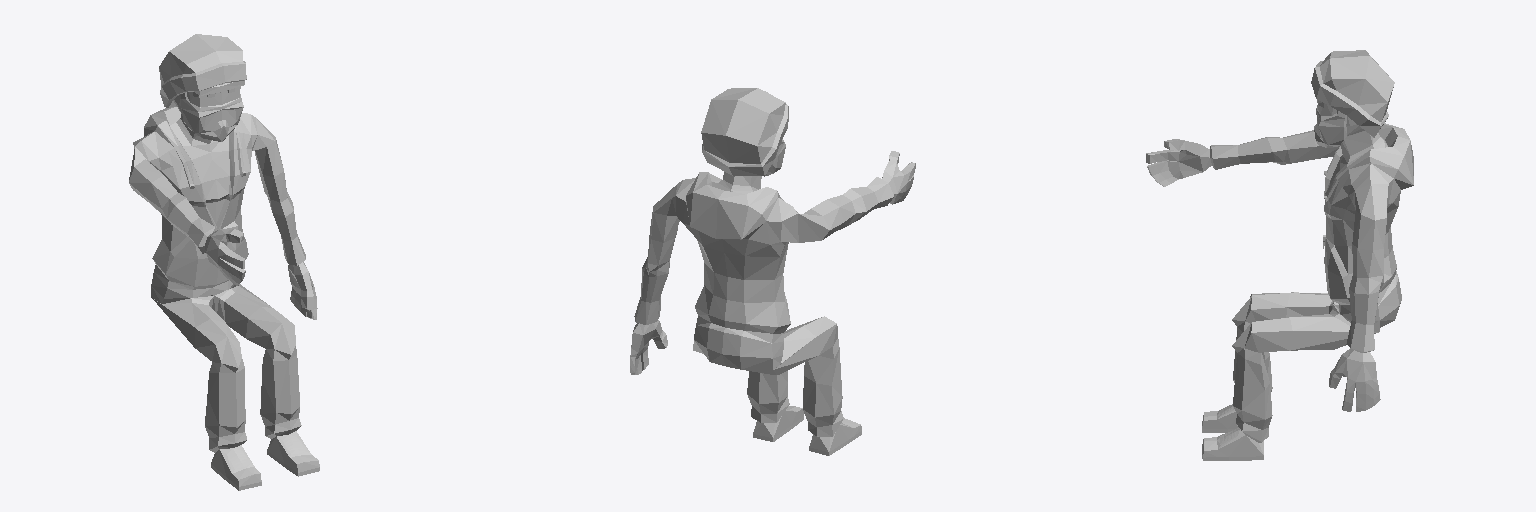
Rendered from man_hoodie_sitting.obj.
3 renders of one model, left to right at view 1: azimuth 30°, elevation 25°; view 2: azimuth 150°, elevation 25°; view 3: azimuth 270°, elevation 25°, orthographic.
Visible parts, largest first — view 1: Character_Male_Hoodie_Mesh.030; view 2: Character_Male_Hoodie_Mesh.030; view 3: Character_Male_Hoodie_Mesh.030.
Boxes of the visible parts, x1=… form: Character_Male_Hoodie_Mesh.030: x1=129, y1=34, x2=319, y2=490; Character_Male_Hoodie_Mesh.030: x1=630, y1=88, x2=915, y2=455; Character_Male_Hoodie_Mesh.030: x1=1146, y1=50, x2=1413, y2=460.
Size of the model in its own units: 0.7834 by 1.53 by 0.9622.